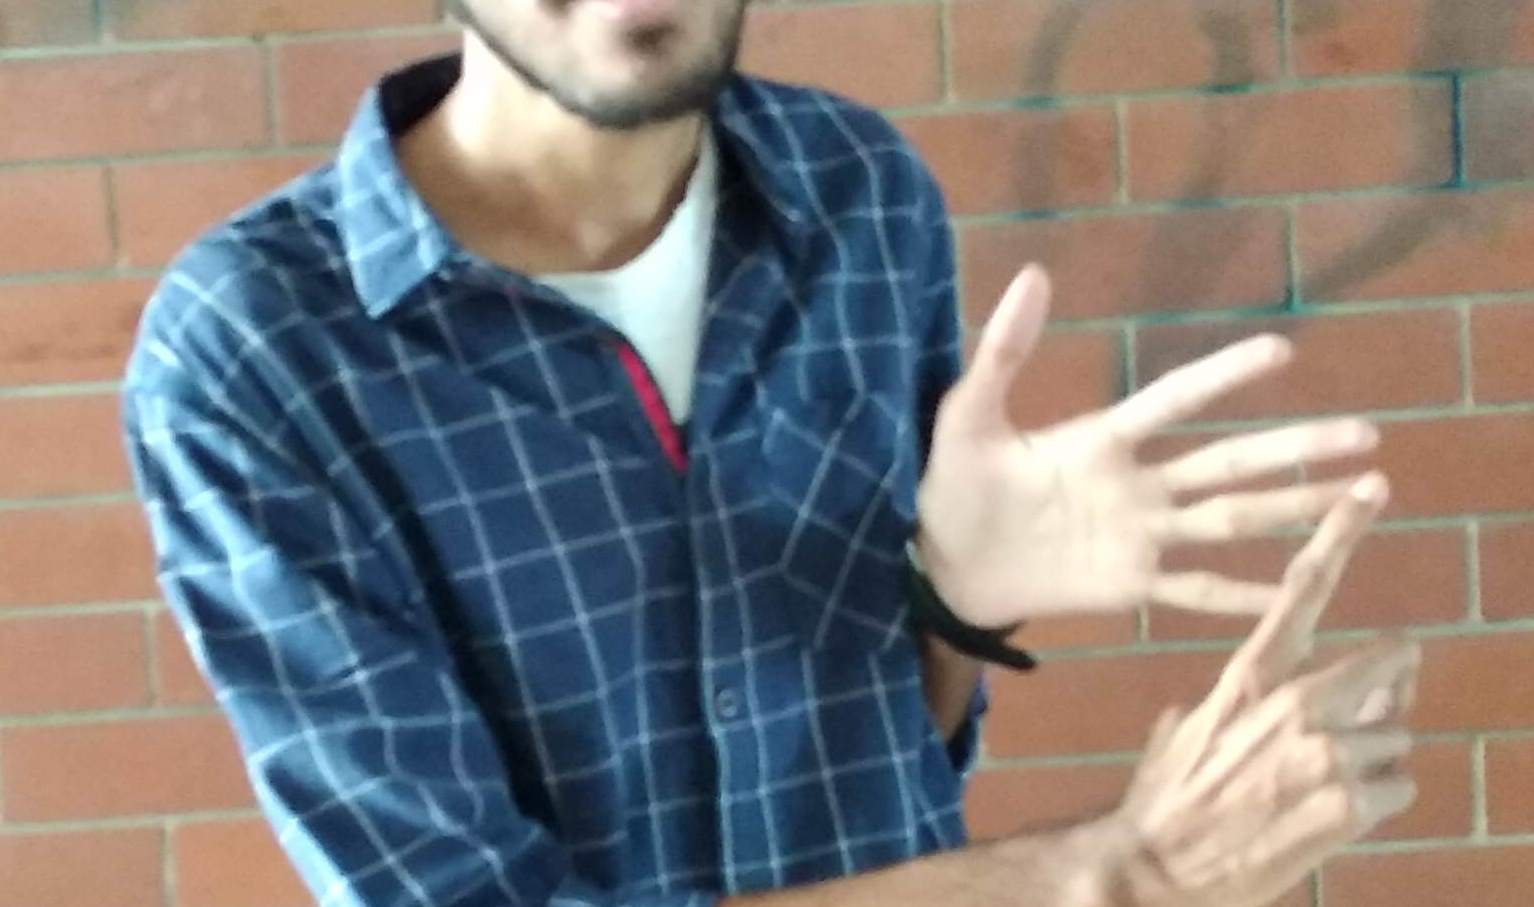e: (985, 289, 1457, 898)
